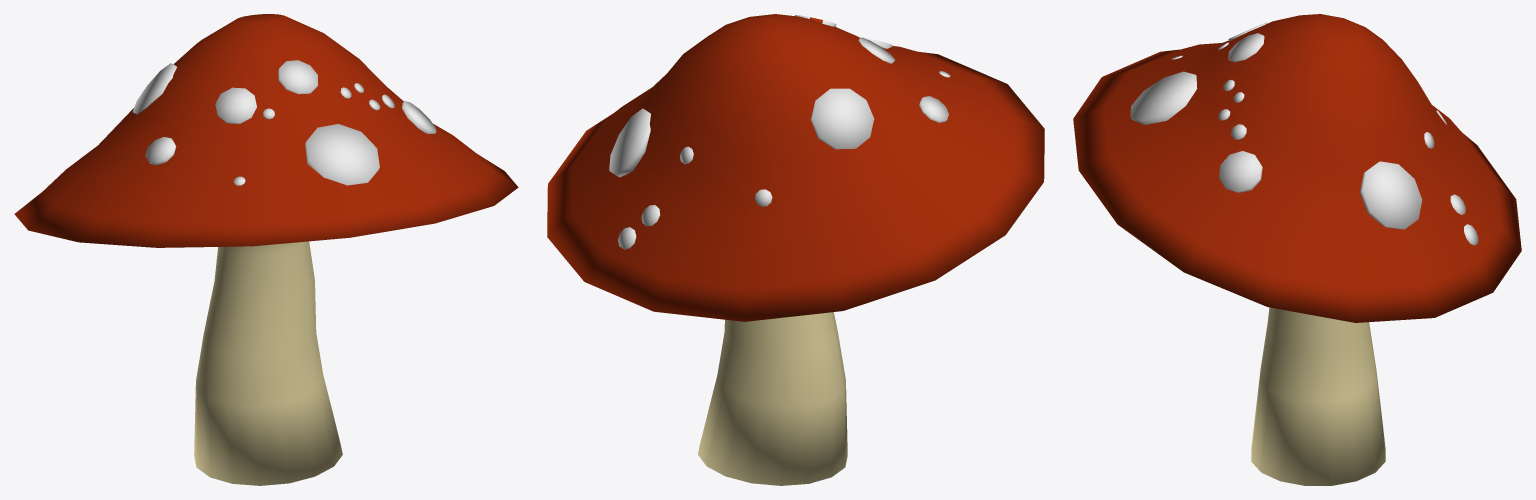
File: cogumelos.fbx
The picture shows the model from 3 angles, left to right: view 1: azimuth 30°, elevation 25°; view 2: azimuth 150°, elevation 25°; view 3: azimuth 270°, elevation 25°; orthographic projection.
Visible parts, largest first — view 1: cogumelo; view 2: cogumelo; view 3: cogumelo.
Boxes of the visible parts, x1,y1,x2,y2 form: cogumelo: (14, 14, 518, 485); cogumelo: (547, 14, 1044, 485); cogumelo: (1073, 14, 1521, 485).
Bounding box in the file's own units: 644 × 599 × 563.
